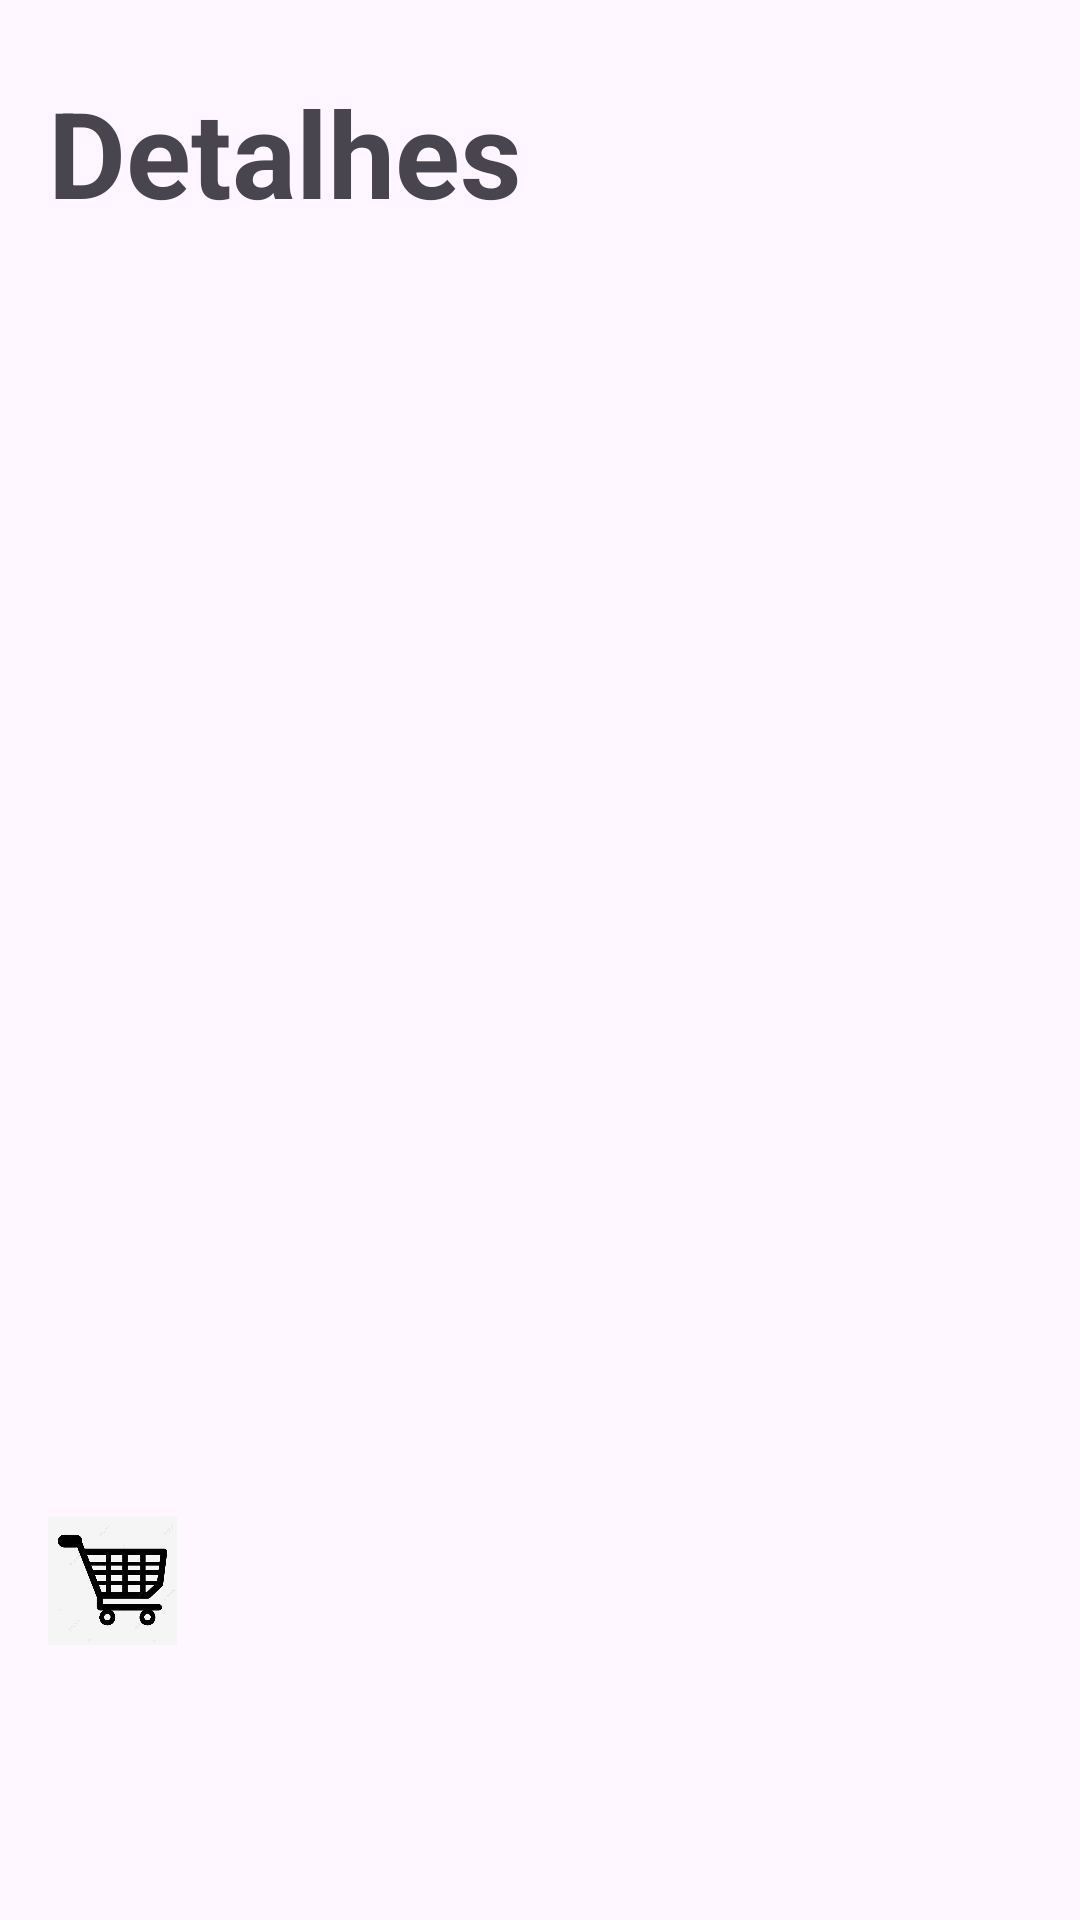

Point at icon controls on the screen. Image size 1080x1920, points as (x=x, y=y).
carrinho: (x=112, y=1580)
